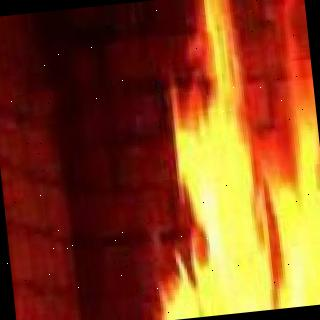fire: (151, 39, 320, 319)
